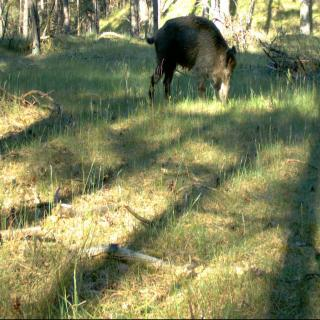Pig: (146, 8, 240, 122)
